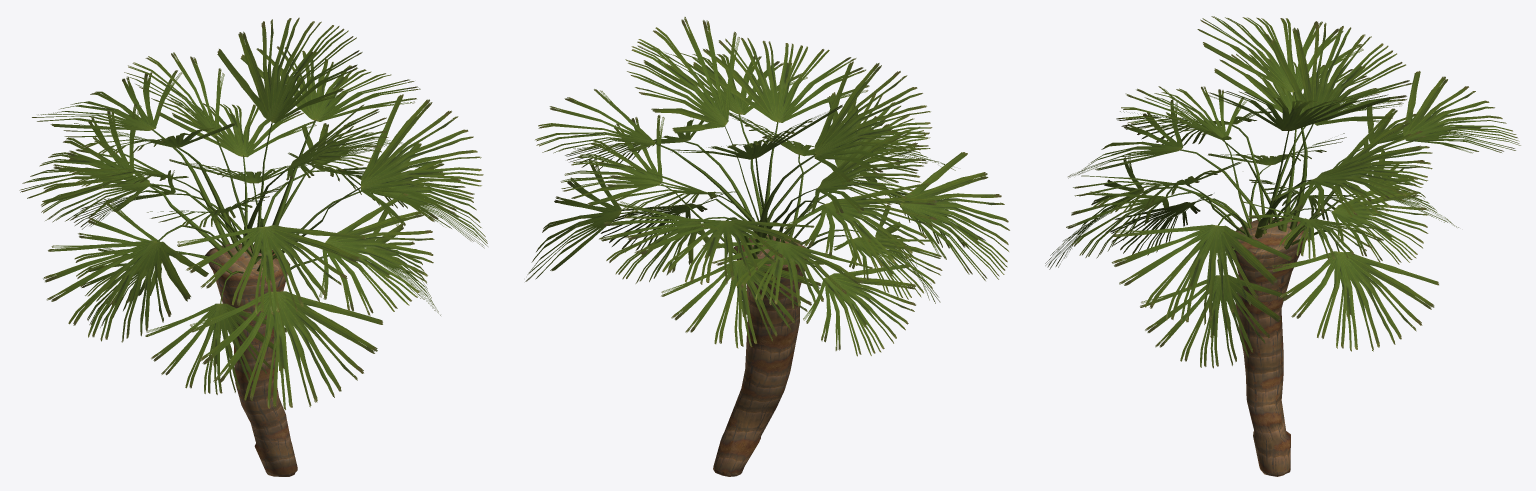
Rendered from NaturePlant06_3.FBX.
3 renders of one model, left to right at view 1: azimuth 30°, elevation 25°; view 2: azimuth 150°, elevation 25°; view 3: azimuth 270°, elevation 25°, orthographic. The views are drawn at different scales.
Parts seen in each view (by area): view 1: NaturePlant06_3; view 2: NaturePlant06_3; view 3: NaturePlant06_3.
Part boxes in pixels (x1,y1,x2,y2): NaturePlant06_3: [19, 17, 487, 476]; NaturePlant06_3: [525, 17, 1009, 476]; NaturePlant06_3: [1045, 16, 1520, 476].
Size of what is drawn, in the model's own units: 2.24 by 2.14 by 2.26.
